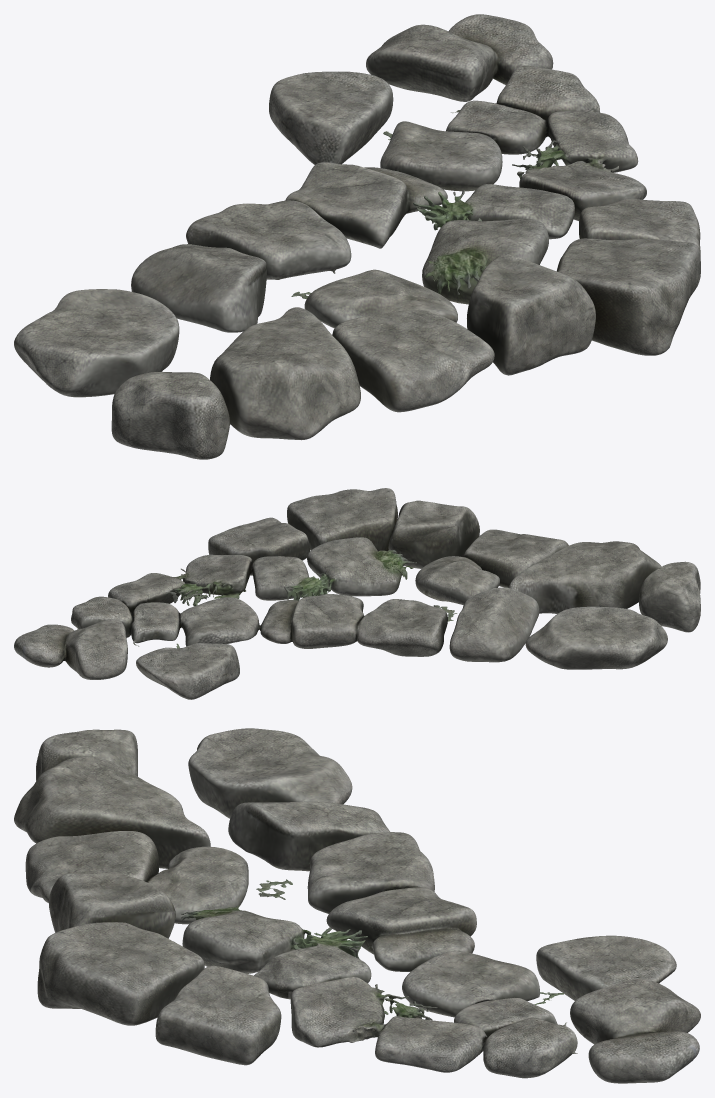
File: prop12.glb
3 renders of one model, top to bottom at view 1: azimuth 30°, elevation 25°; view 2: azimuth 150°, elevation 25°; view 3: azimuth 270°, elevation 25°, orthographic. The views are drawn at different scales.
Parts seen in each view (by area): view 1: mesh_node; view 2: mesh_node; view 3: mesh_node.
Boxes of the visible parts, x1,y1,x2,y2 form: mesh_node: [14, 14, 700, 459]; mesh_node: [14, 488, 700, 699]; mesh_node: [14, 728, 700, 1083].
Size of the model in its own units: 1.9 by 0.2097 by 1.69.
Materials: 1 (1 with a texture image).
